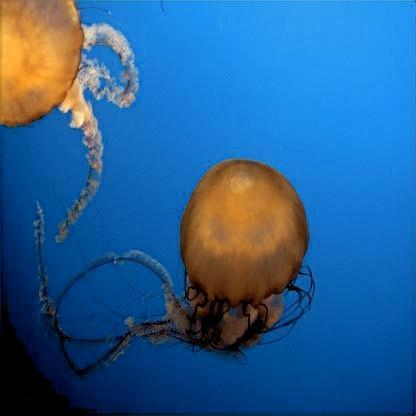Dressed: (34, 152, 310, 376), (4, 4, 140, 252)
